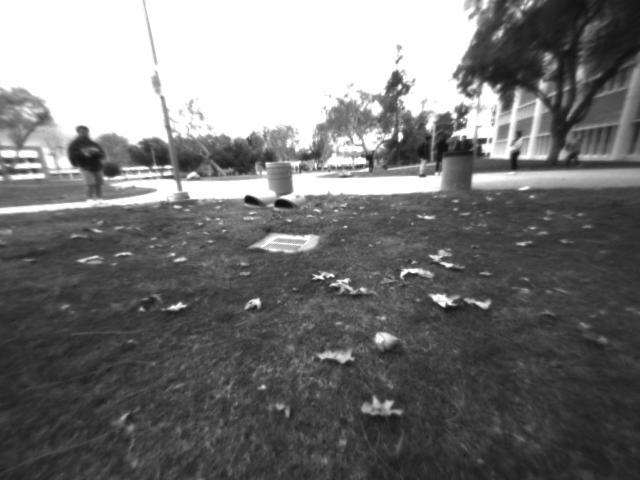trashcan: (443, 151, 471, 196), (267, 161, 291, 194)
